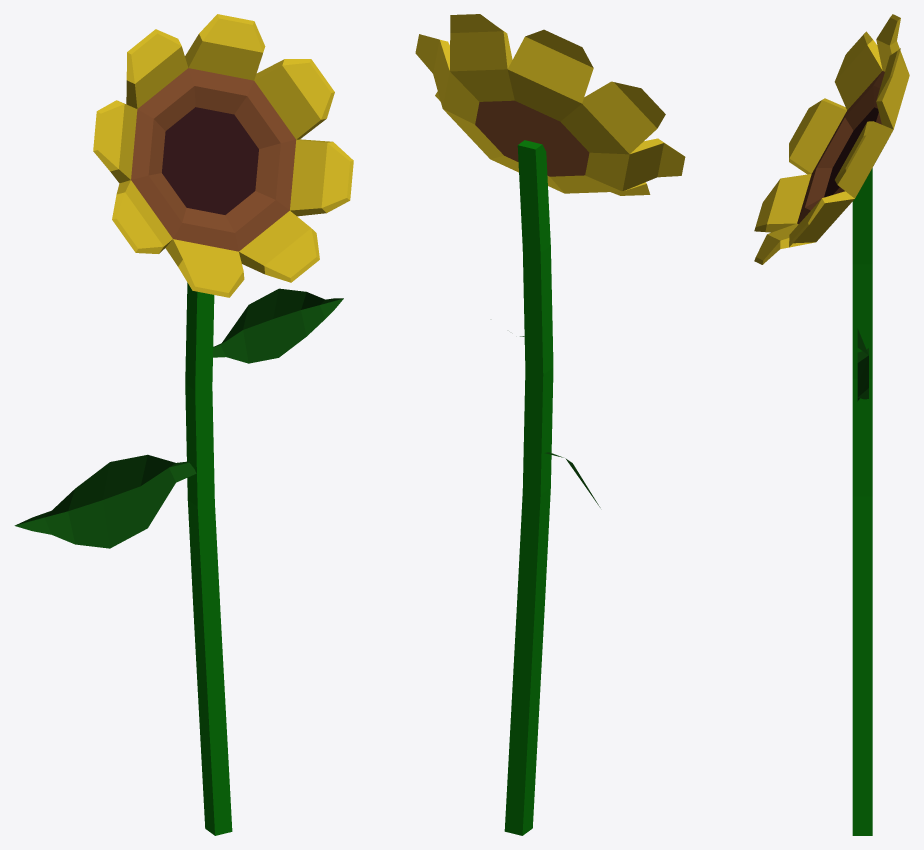
File: sunflower.glb
3 renders of one model, left to right at view 1: azimuth 30°, elevation 25°; view 2: azimuth 150°, elevation 25°; view 3: azimuth 270°, elevation 25°, orthographic. The views are drawn at different scales.
Parts seen in each view (by area): view 1: sunflower; view 2: sunflower; view 3: sunflower.
Part boxes in pixels (x1,y1,x2,y2): sunflower: [14, 14, 353, 835]; sunflower: [415, 14, 685, 835]; sunflower: [754, 14, 909, 835].
Bounding box in the file's own units: 0.5192 × 1.2 × 0.2129.
1 material, 1 textured.
